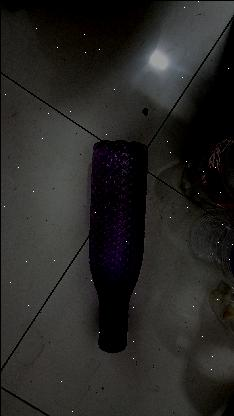Others: (78, 135, 150, 357)
